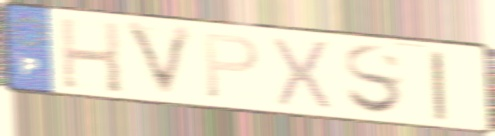H: (56, 14, 126, 96)
I: (425, 49, 451, 123)
P: (201, 31, 263, 101)
S: (340, 42, 407, 118)
V: (121, 20, 200, 103)
X: (269, 34, 334, 114)
